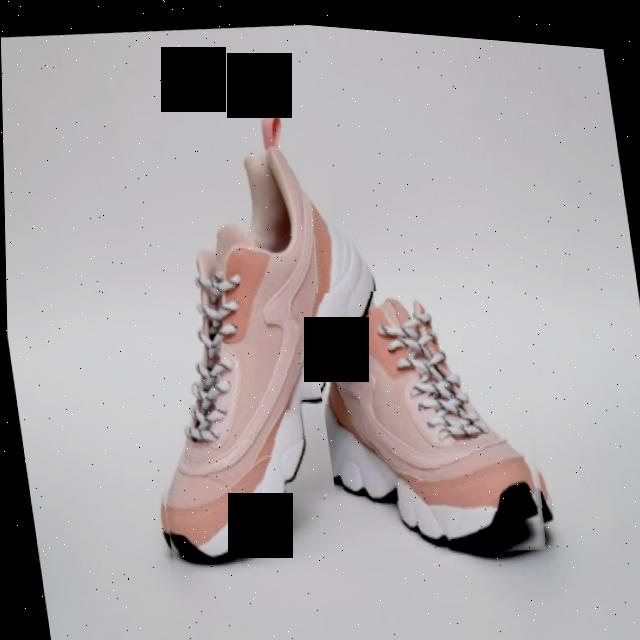shoe: (105, 107, 413, 583), (305, 261, 560, 571)
